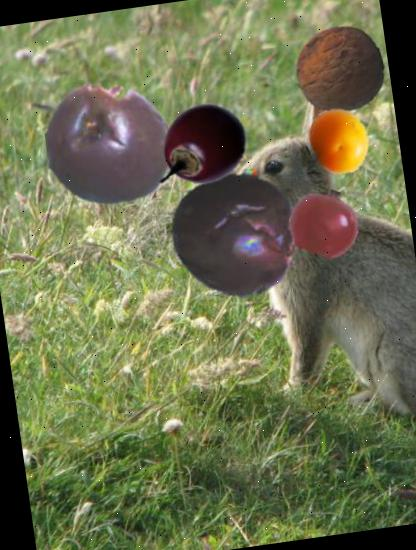Cherry: (302, 103, 378, 179)
Passion: (161, 161, 308, 308), (37, 71, 184, 218)
Redcurrant: (286, 182, 366, 262)
Tamarillo: (152, 97, 256, 202)
Walnut: (289, 19, 390, 120)
